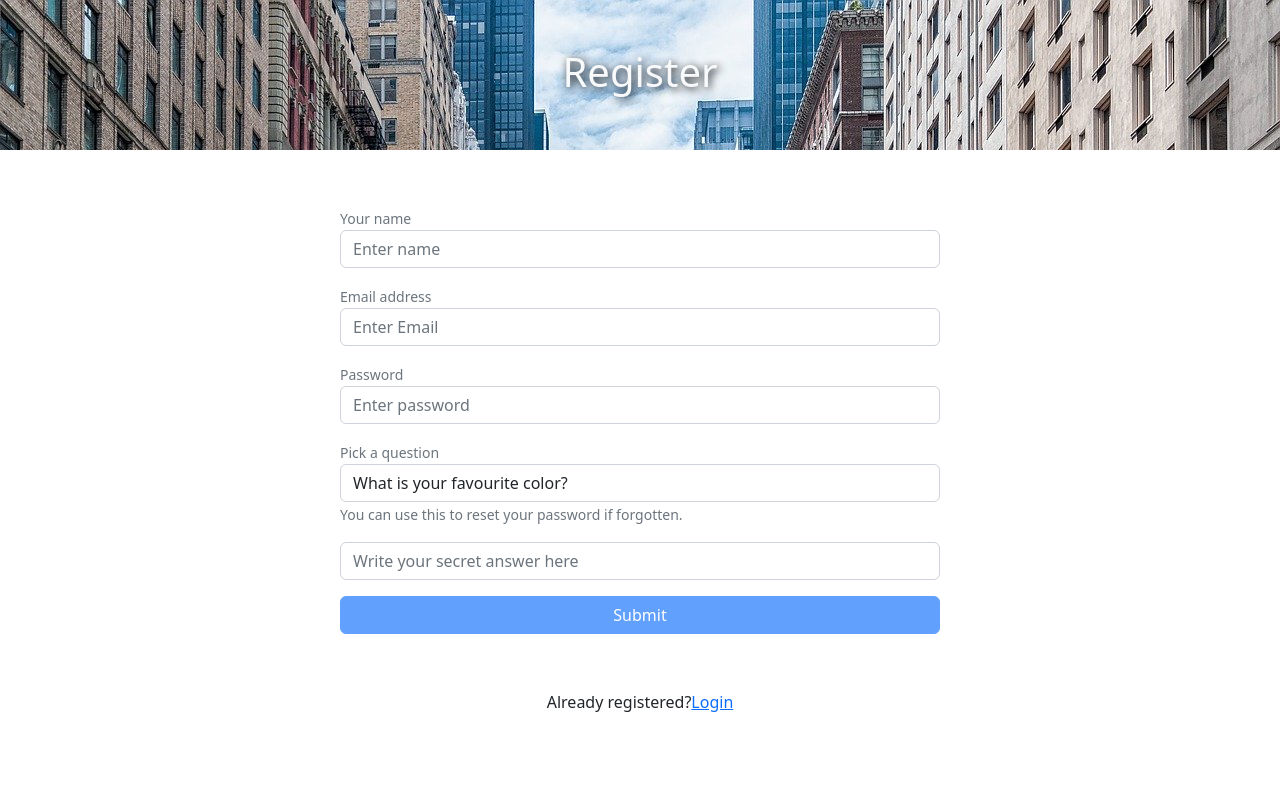
it: Register page › INTERACTIONS › enables button when all inputs are filled
In the field with placeholder "Enter name": (640, 249) x1=340 y1=230 x2=940 y2=268, type "user"
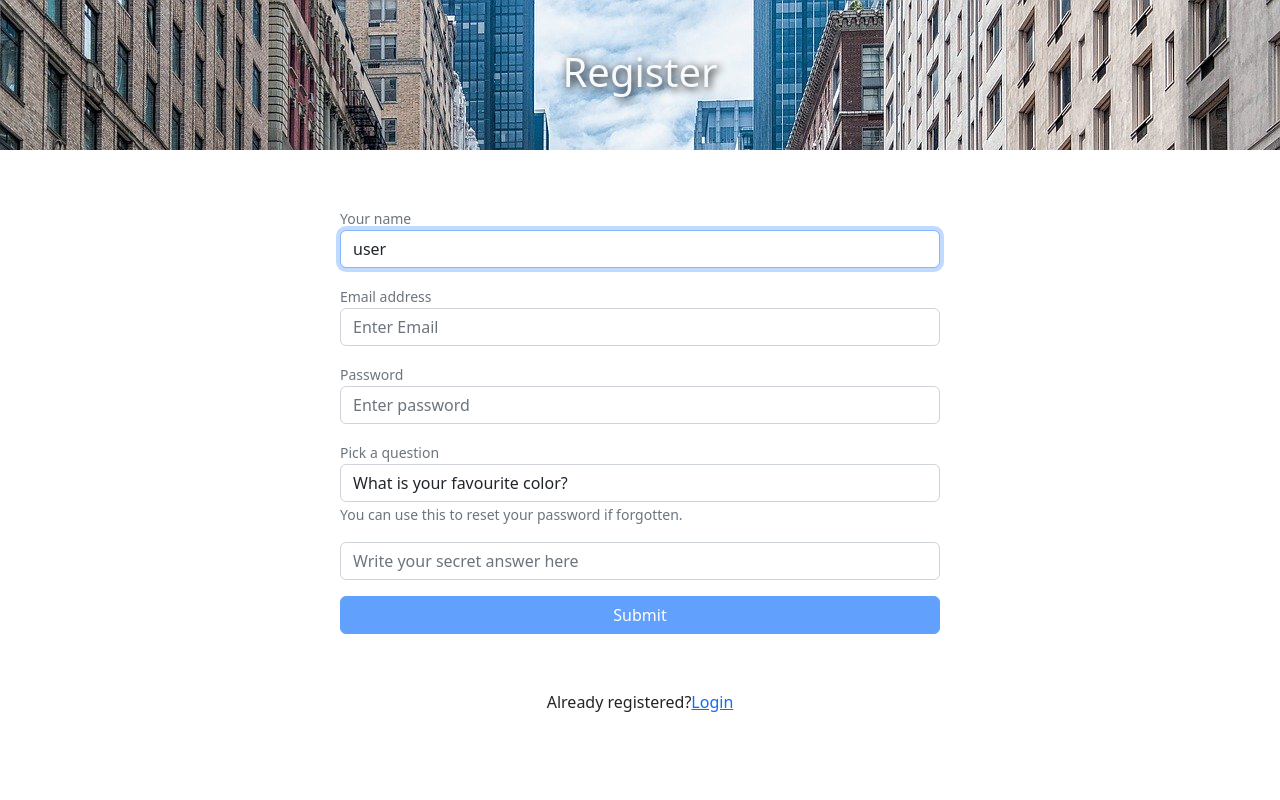
In the field with placeholder "Enter Email": (640, 327) x1=340 y1=308 x2=940 y2=346, type "user@mail.com"
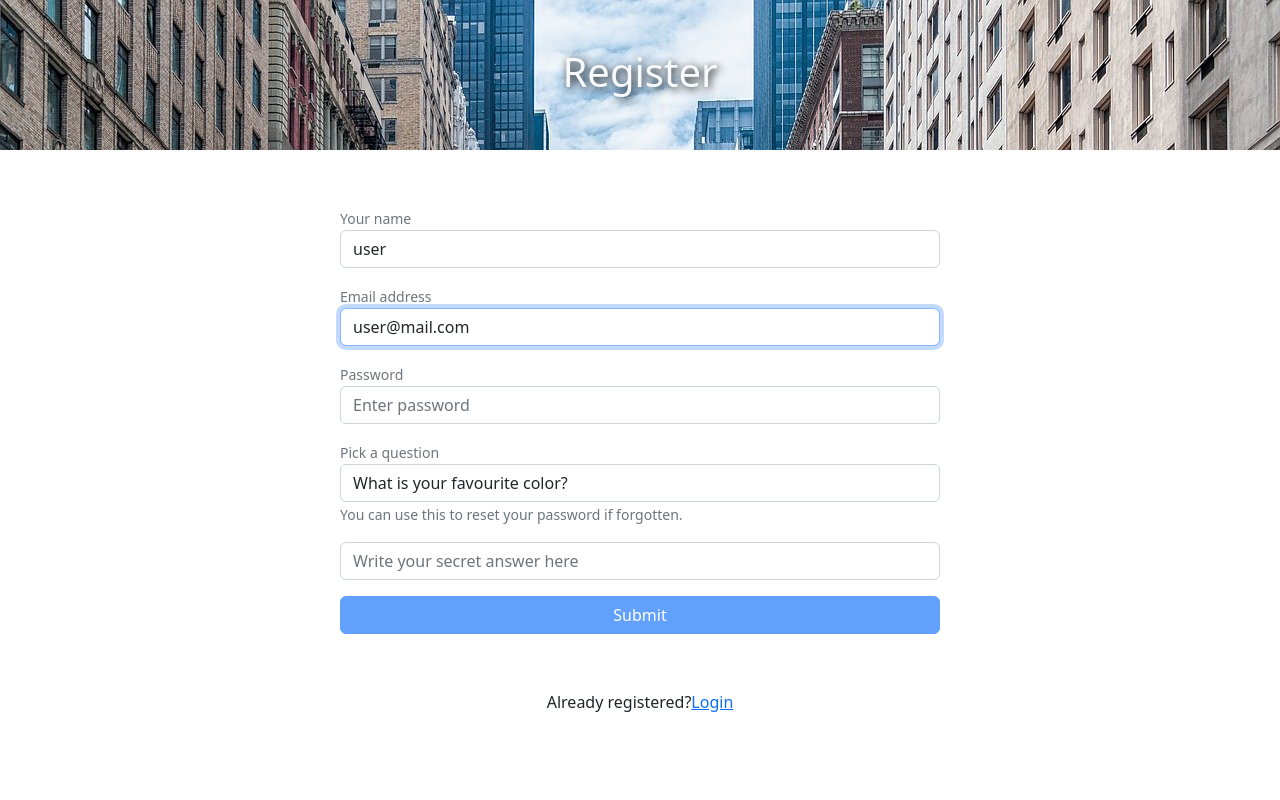
In the password field with placeholder "Enter password": (640, 405) x1=340 y1=386 x2=940 y2=424, type "123456"
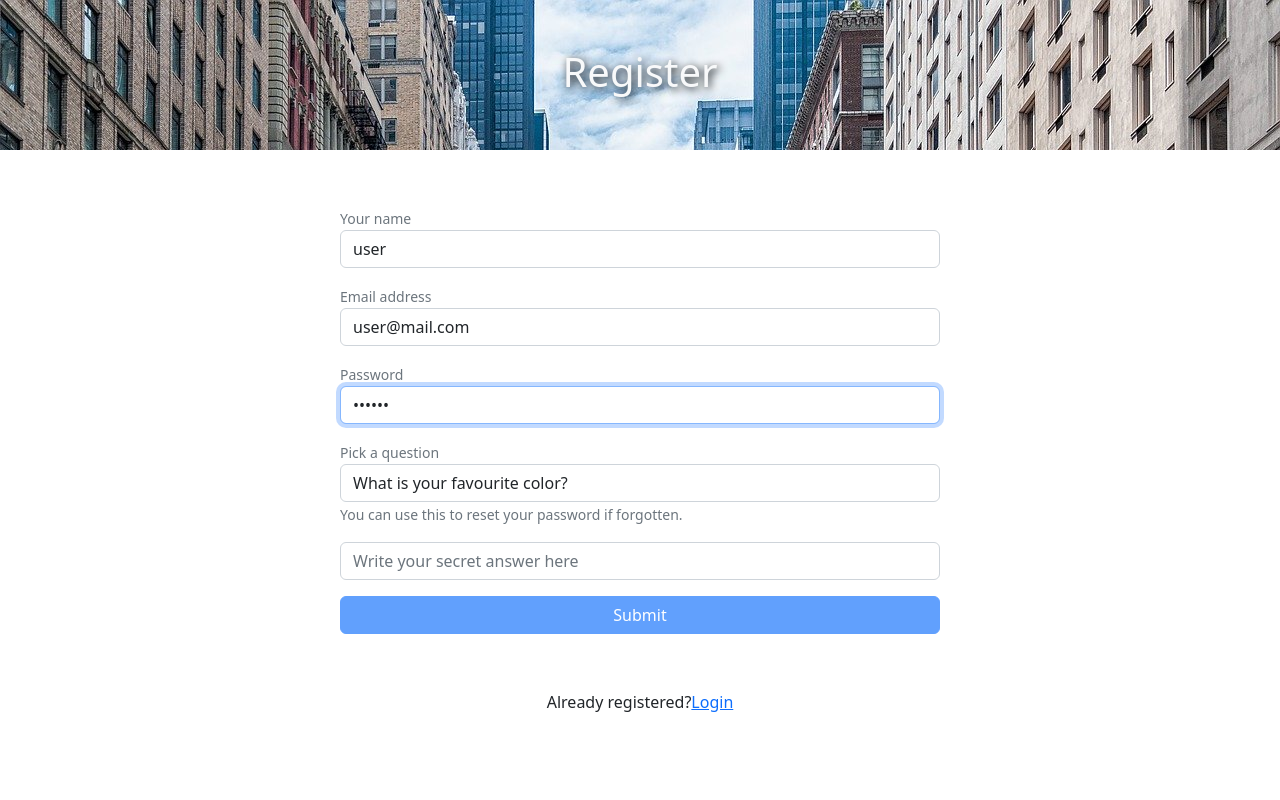
In the field with placeholder "Write your secret answer here": (640, 561) x1=340 y1=542 x2=940 y2=580, type "red"
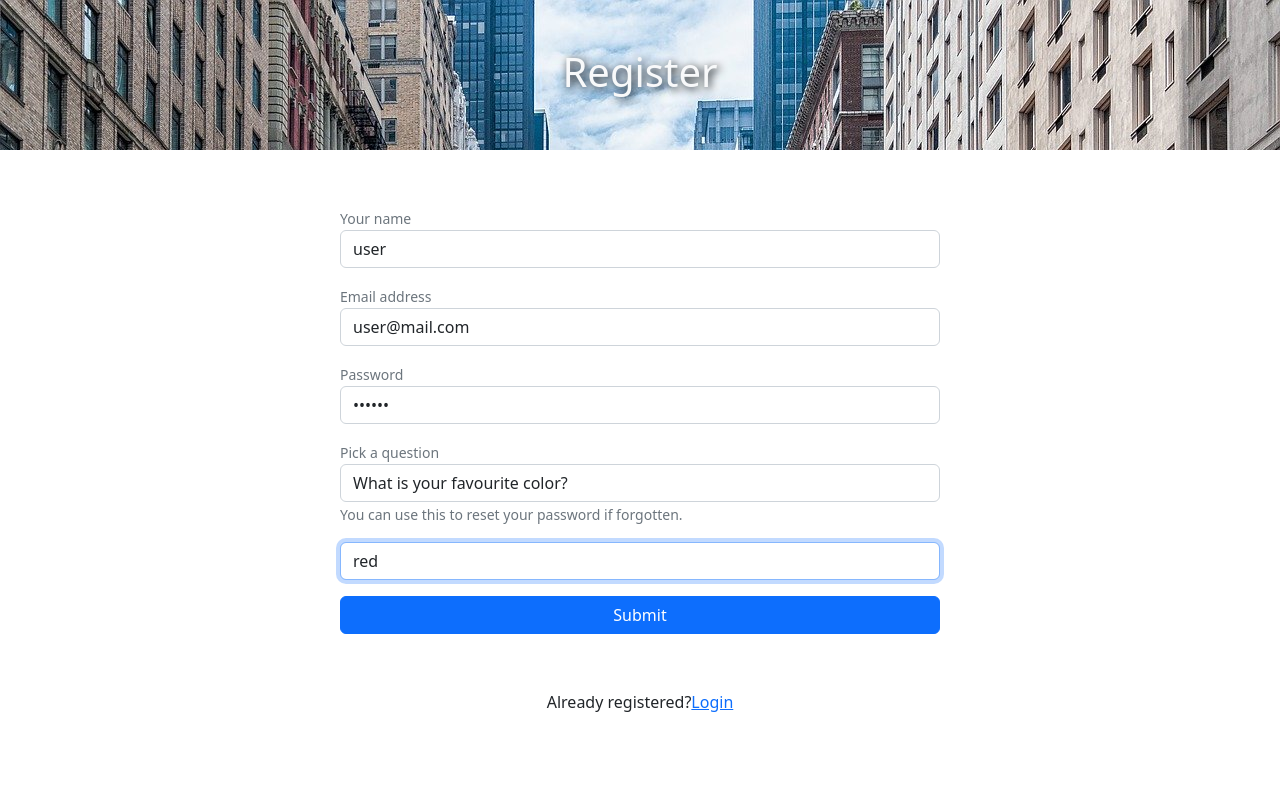
Now the button "Submit" is enabled, box x1=340 y1=596 x2=940 y2=634
